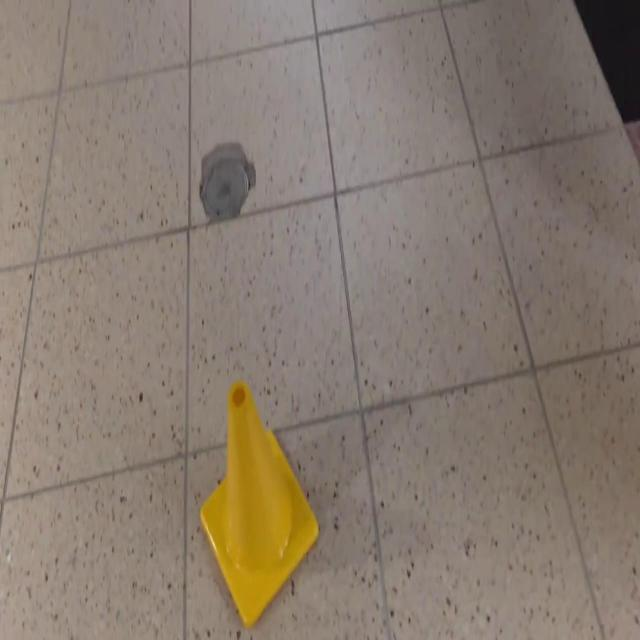frc_cone: (199, 378, 322, 620)
